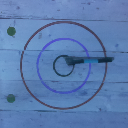Axe Tip: (65, 58, 75, 61)
